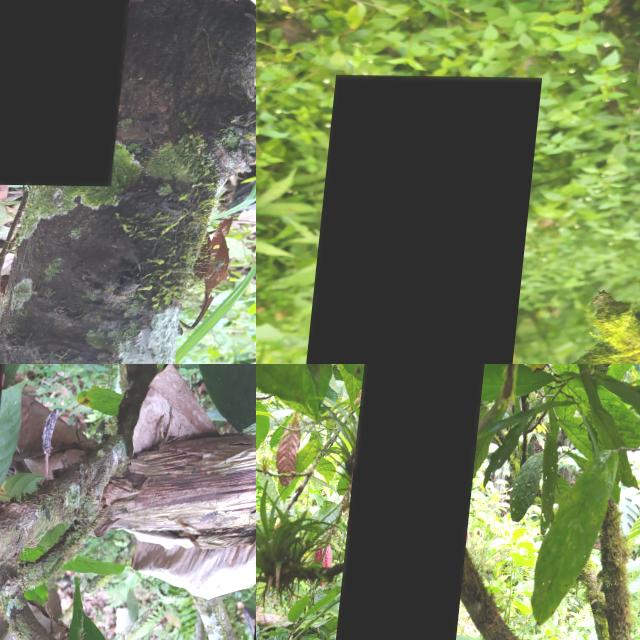Fitoftora: (308, 74, 545, 364)
Monilia: (0, 0, 136, 185)
Sana: (337, 364, 487, 640)
